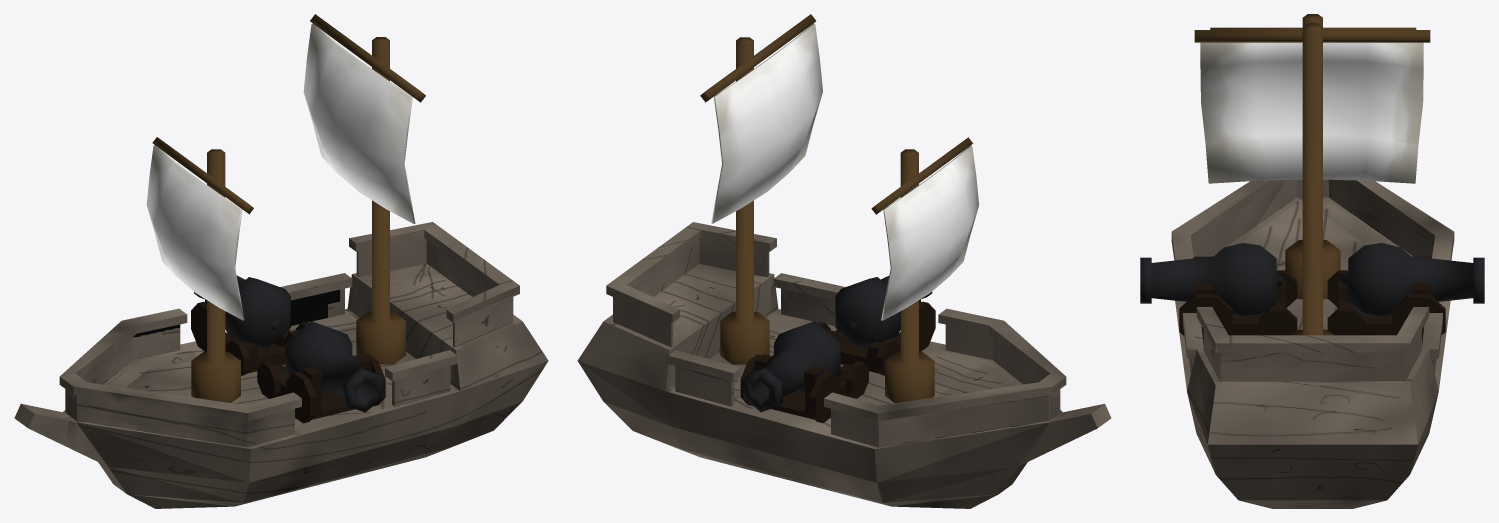
File: igralec.fbx
3 views of the same model, side by side, from view 1: azimuth 30°, elevation 25°; view 2: azimuth 150°, elevation 25°; view 3: azimuth 270°, elevation 25° (orthographic). The views are drawn at different scales.
Parts seen in each view (by area): view 1: Sphere, Plane_001, Plane, Cylinder, Cylinder_008, Cylinder_005, Cylinder_013, Cube, Cylinder_007, Cube_001, Cylinder_006, Cylinder_002 (+2 smaller); view 2: Sphere, Plane_001, Plane, Cylinder_013, Cylinder_008, Cylinder_005, Cylinder, Cube_001, Cylinder_007, Cube, Cylinder_006, Cylinder_012 (+2 smaller); view 3: Sphere, Plane_001, Cylinder_013, Cylinder, Cylinder_008, Cylinder_007, Cylinder_005, Cube_001, Cylinder_001, Cube, Cylinder_011, Cylinder_004 (+4 smaller).
Part boxes in pixels (left/top/right/bottom): Sphere: left=14, top=222, right=548, bottom=508; Plane_001: left=303, top=24, right=415, bottom=223; Plane: left=146, top=145, right=244, bottom=320; Cylinder: left=285, top=321, right=382, bottom=412; Cylinder_008: left=356, top=37, right=405, bottom=364; Cylinder_005: left=191, top=149, right=240, bottom=402; Cylinder_013: left=194, top=275, right=290, bottom=349; Cube: left=275, top=354, right=371, bottom=419; Cylinder_007: left=310, top=14, right=425, bottom=102; Cube_001: left=205, top=299, right=300, bottom=373; Cylinder_006: left=152, top=137, right=253, bottom=214; Cylinder_002: left=286, top=371, right=316, bottom=423; Sphere: left=577, top=222, right=1111, bottom=508; Plane_001: left=711, top=23, right=822, bottom=223; Plane: left=881, top=145, right=978, bottom=320; Cylinder_013: left=743, top=321, right=840, bottom=412; Cylinder_008: left=720, top=37, right=769, bottom=364; Cylinder_005: left=885, top=149, right=934, bottom=402; Cylinder: left=835, top=276, right=932, bottom=349; Cube_001: left=755, top=354, right=851, bottom=419; Cylinder_007: left=700, top=14, right=815, bottom=102; Cube: left=825, top=299, right=920, bottom=373; Cylinder_006: left=871, top=137, right=972, bottom=214; Cylinder_012: left=810, top=371, right=839, bottom=422; Sphere: left=1171, top=179, right=1454, bottom=508; Plane_001: left=1200, top=42, right=1423, bottom=183; Cylinder_013: left=1341, top=242, right=1484, bottom=317; Cylinder: left=1140, top=242, right=1283, bottom=317; Cylinder_008: left=1292, top=23, right=1333, bottom=335; Cylinder_007: left=1194, top=30, right=1430, bottom=42; Cylinder_005: left=1285, top=14, right=1340, bottom=299; Cube_001: left=1339, top=256, right=1430, bottom=335; Cylinder_001: left=1179, top=294, right=1232, bottom=344; Cube: left=1194, top=256, right=1285, bottom=335; Cylinder_011: left=1392, top=294, right=1445, bottom=345; Cylinder_004: left=1259, top=308, right=1297, bottom=335.
Bounding box in the file's own units: 5.07 × 4.11 × 2.82.
Materials: 5 (2 with a texture image).
